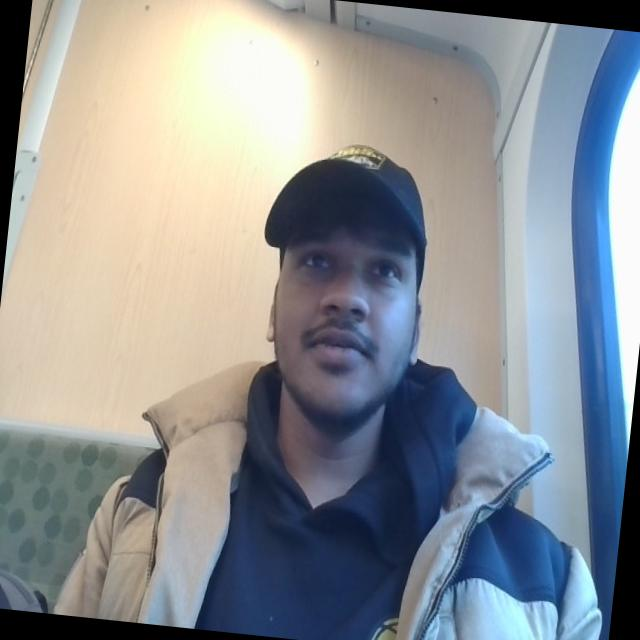hat: (254, 126, 445, 270)
